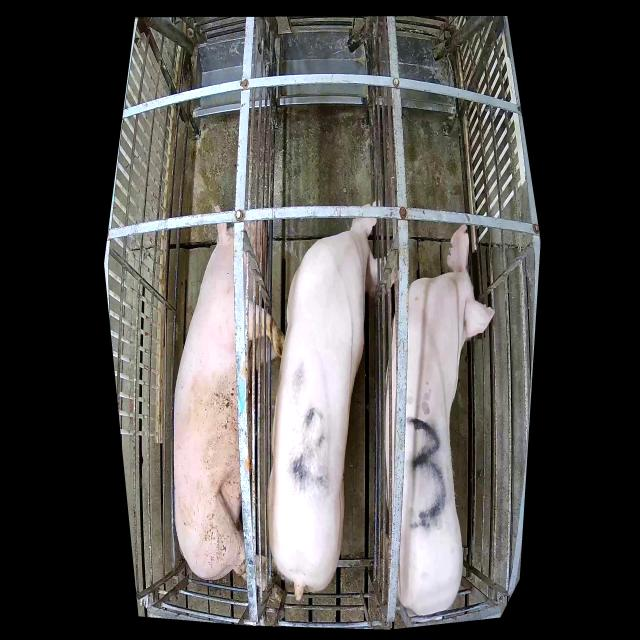pig: (268, 220, 394, 602), (174, 206, 285, 609), (386, 224, 494, 617)
